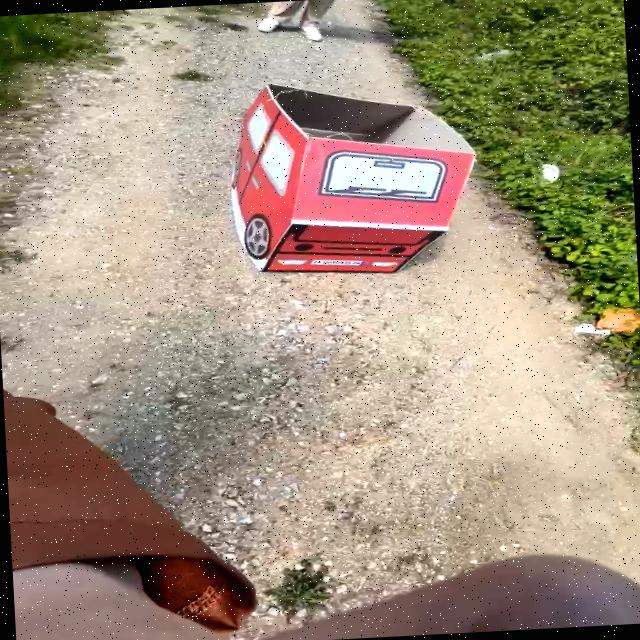red_car: (192, 65, 512, 288)
